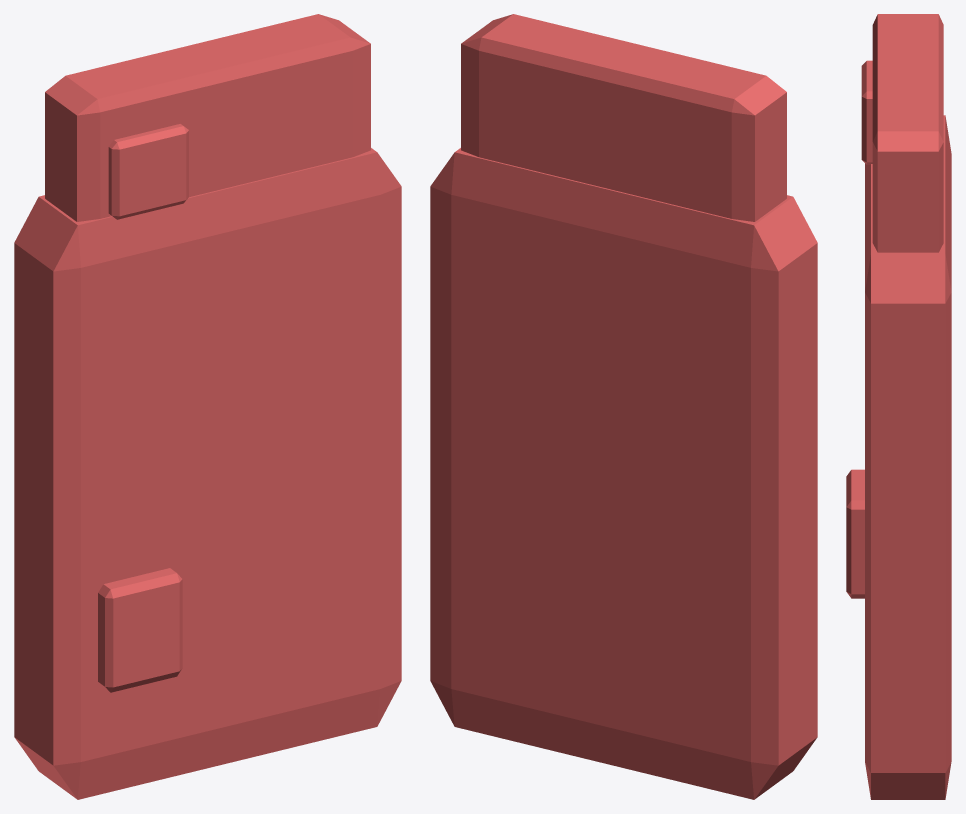
File: b16_ketchup_sachet.glb
3 views of the same model, side by side, from view 1: azimuth 30°, elevation 25°; view 2: azimuth 150°, elevation 25°; view 3: azimuth 270°, elevation 25° (orthographic). The views are drawn at different scales.
Visible parts, largest first — view 1: b16_ketchup_sachet; view 2: b16_ketchup_sachet; view 3: b16_ketchup_sachet.
Boxes of the visible parts, left/top/right/bottom form: b16_ketchup_sachet: left=14, top=14, right=401, bottom=799; b16_ketchup_sachet: left=430, top=14, right=817, bottom=799; b16_ketchup_sachet: left=846, top=14, right=951, bottom=799.
Bounding box in the file's own units: 0.04 × 0.076 × 0.011.
